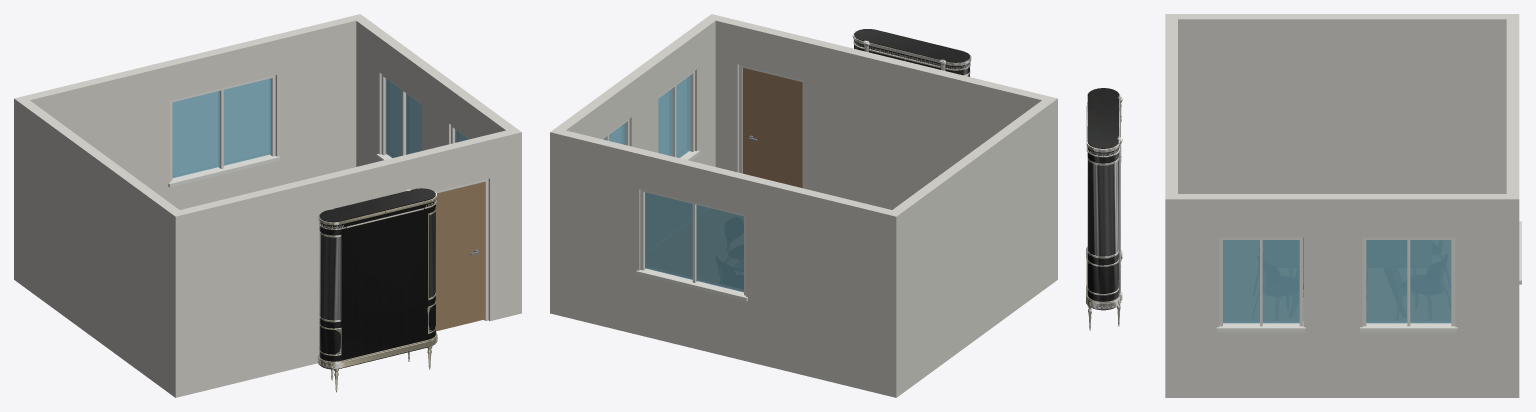
File: diffuscene.glb
3 renders of one model, left to right at view 1: azimuth 30°, elevation 25°; view 2: azimuth 150°, elevation 25°; view 3: azimuth 270°, elevation 25°, orthographic. The views are drawn at different scales.
Visible parts, largest first — view 1: wall|scenesmith_107__R00|0, wall|scenesmith_107__R00|1, wall|scenesmith_107__R00|2, raw_model.002, wall|scenesmith_107__R00|3, wall|scenesmith_107__R00|1 Window 0 | glazing, wall|scenesmith_107__R00|0 Door 0 | wood leaf, wall|scenesmith_107__R00|1 Window 0 | jamb, wall|scenesmith_107__R00|3 Window 0 | glazing, wall|scenesmith_107__R00|3 Window 0 | jamb, wall|scenesmith_107__R00|0 Door 0 | jamb; view 2: wall|scenesmith_107__R00|1, wall|scenesmith_107__R00|0, wall|scenesmith_107__R00|2, wall|scenesmith_107__R00|3, wall|scenesmith_107__R00|1 Window 0 | glazing, wall|scenesmith_107__R00|0 Door 0 | wood leaf, raw_model.002, wall|scenesmith_107__R00|3 Window 0 | glazing, wall|scenesmith_107__R00|1 Window 0 | jamb, wall|scenesmith_107__R00|3 Window 0 | jamb, wall|scenesmith_107__R00|0 Door 0 | jamb; view 3: wall|scenesmith_107__R00|2, wall|scenesmith_107__R00|3, wall|scenesmith_107__R00|3 Window 0 | glazing, raw_model.002, wall|scenesmith_107__R00|1, wall|scenesmith_107__R00|0, wall|scenesmith_107__R00|3 Window 0 | jamb.
Part boxes in pixels (x1,y1,x2,y2): wall|scenesmith_107__R00|0: [170, 130, 521, 397]; wall|scenesmith_107__R00|1: [14, 16, 356, 283]; wall|scenesmith_107__R00|2: [16, 96, 178, 397]; raw_model.002: [317, 188, 437, 392]; wall|scenesmith_107__R00|3: [351, 14, 521, 166]; wall|scenesmith_107__R00|1 Window 0 | glazing: [172, 78, 271, 178]; wall|scenesmith_107__R00|0 Door 0 | wood leaf: [436, 181, 484, 331]; wall|scenesmith_107__R00|1 Window 0 | jamb: [168, 75, 279, 187]; wall|scenesmith_107__R00|3 Window 0 | glazing: [385, 78, 468, 157]; wall|scenesmith_107__R00|3 Window 0 | jamb: [376, 74, 469, 160]; wall|scenesmith_107__R00|0 Door 0 | jamb: [436, 178, 488, 320]; wall|scenesmith_107__R00|1: [560, 130, 902, 397]; wall|scenesmith_107__R00|0: [715, 16, 1057, 209]; wall|scenesmith_107__R00|2: [886, 99, 1057, 397]; wall|scenesmith_107__R00|3: [550, 14, 720, 315]; wall|scenesmith_107__R00|1 Window 0 | glazing: [645, 192, 743, 292]; wall|scenesmith_107__R00|0 Door 0 | wood leaf: [742, 68, 802, 187]; raw_model.002: [852, 29, 971, 76]; wall|scenesmith_107__R00|3 Window 0 | glazing: [603, 75, 690, 157]; wall|scenesmith_107__R00|1 Window 0 | jamb: [636, 189, 747, 301]; wall|scenesmith_107__R00|3 Window 0 | jamb: [602, 71, 699, 160]; wall|scenesmith_107__R00|0 Door 0 | jamb: [739, 64, 804, 188]; wall|scenesmith_107__R00|2: [1178, 14, 1519, 193]; wall|scenesmith_107__R00|3: [1165, 194, 1519, 397]; wall|scenesmith_107__R00|3 Window 0 | glazing: [1223, 240, 1451, 323]; raw_model.002: [1086, 88, 1122, 330]; wall|scenesmith_107__R00|1: [1506, 14, 1519, 397]; wall|scenesmith_107__R00|0: [1165, 14, 1177, 397]; wall|scenesmith_107__R00|3 Window 0 | jamb: [1216, 237, 1457, 332].
Size of the model in its own units: 5.23 by 2.61 by 5.17.
9 materials, 3 textured.
